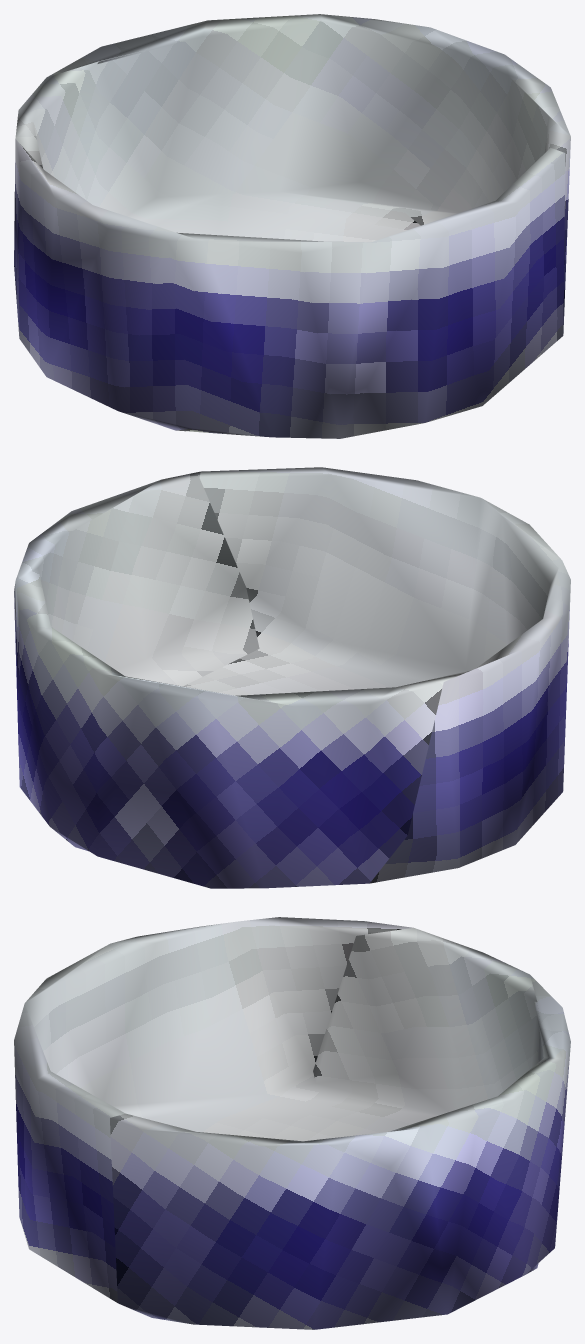
Rendered from Top_Paw_Dog_Bowl_Blue_Paw_Bone_Ceramic_25_fl_oz_total-low.glb.
3 renders of one model, top to bottom at view 1: azimuth 30°, elevation 25°; view 2: azimuth 150°, elevation 25°; view 3: azimuth 270°, elevation 25°, orthographic.
Parts seen in each view (by area): view 1: Top_Paw_Dog_Bowl_Blue_Paw_Bone_Ceramic_25_fl_oz_total; view 2: Top_Paw_Dog_Bowl_Blue_Paw_Bone_Ceramic_25_fl_oz_total; view 3: Top_Paw_Dog_Bowl_Blue_Paw_Bone_Ceramic_25_fl_oz_total.
Part boxes in pixels (<box>): Top_Paw_Dog_Bowl_Blue_Paw_Bone_Ceramic_25_fl_oz_total: <box>14,14,570,438</box>; Top_Paw_Dog_Bowl_Blue_Paw_Bone_Ceramic_25_fl_oz_total: <box>14,467,570,888</box>; Top_Paw_Dog_Bowl_Blue_Paw_Bone_Ceramic_25_fl_oz_total: <box>14,917,570,1329</box>.
Bounding box in the file's own units: 0.1509 × 0.0599 × 0.1524.
1 material, 1 textured.
